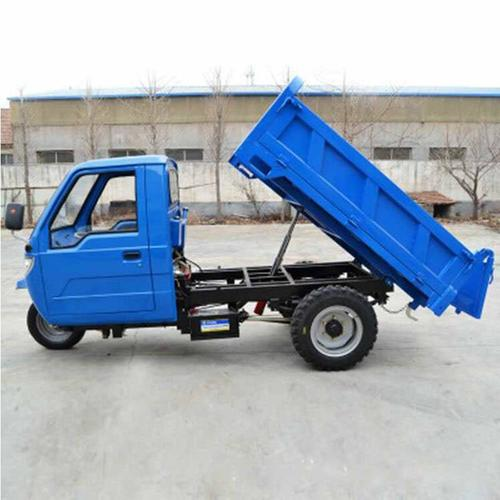tricycle: (20, 118, 491, 372)
